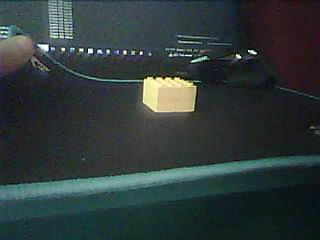lego: (142, 76, 197, 113)
